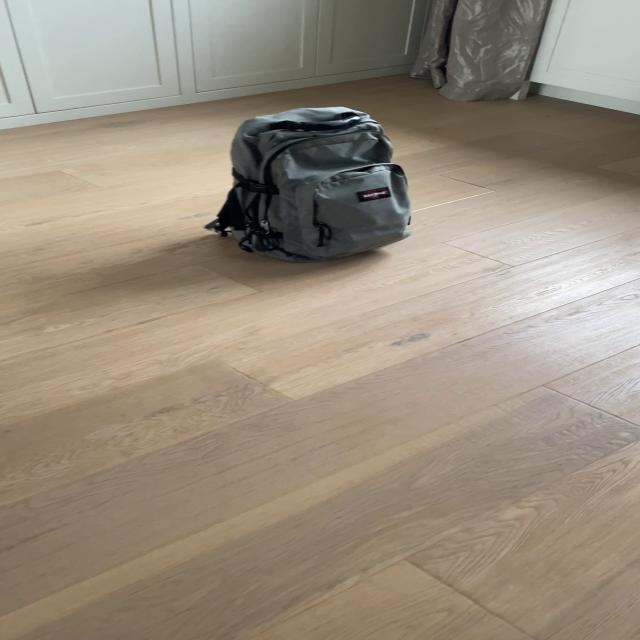backpack: (202, 99, 420, 268)
